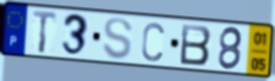3: (60, 12, 92, 59)
8: (216, 25, 243, 72)
B: (179, 22, 213, 67)
C: (140, 20, 166, 63)
S: (101, 16, 135, 62)
T: (32, 8, 59, 55)
